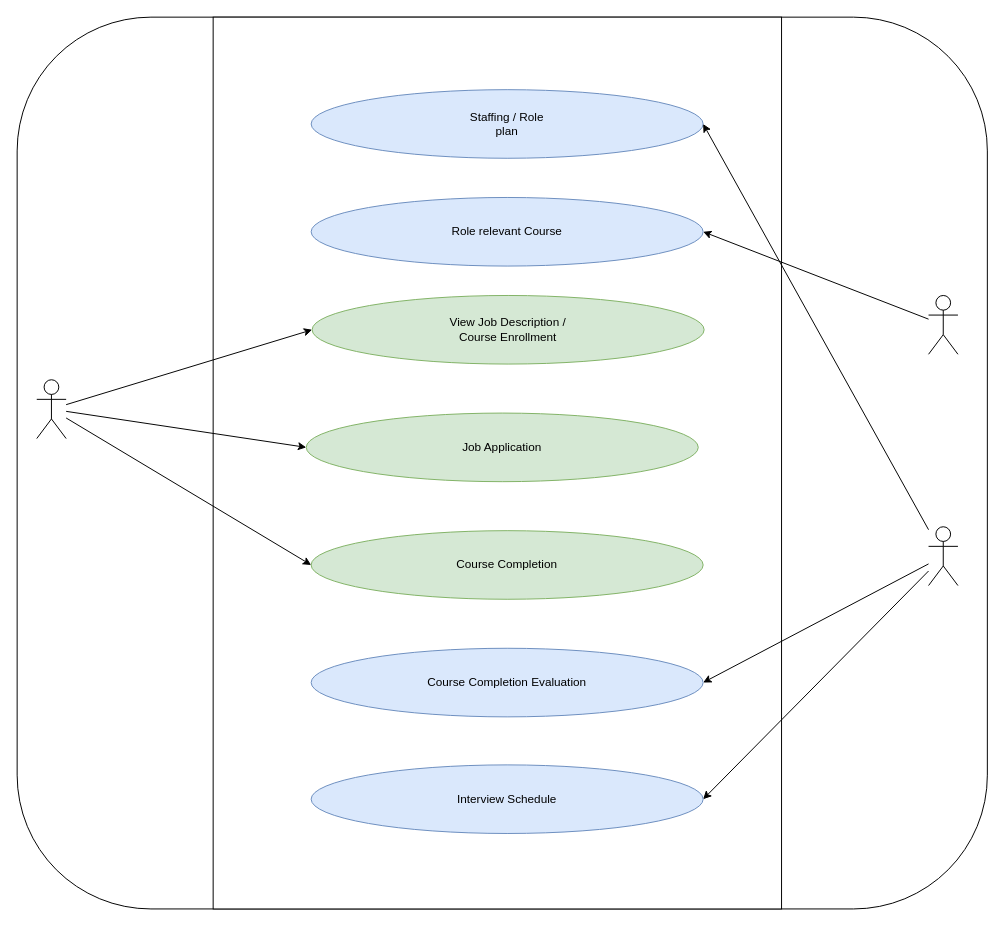
This 1005x926 diagram has some shape labels left out. Each missing label, with the centre of its shape:
"Applicant" goes at (x=51, y=409).
"HXM" goes at (x=943, y=556).
"LMT" goes at (x=943, y=324).
